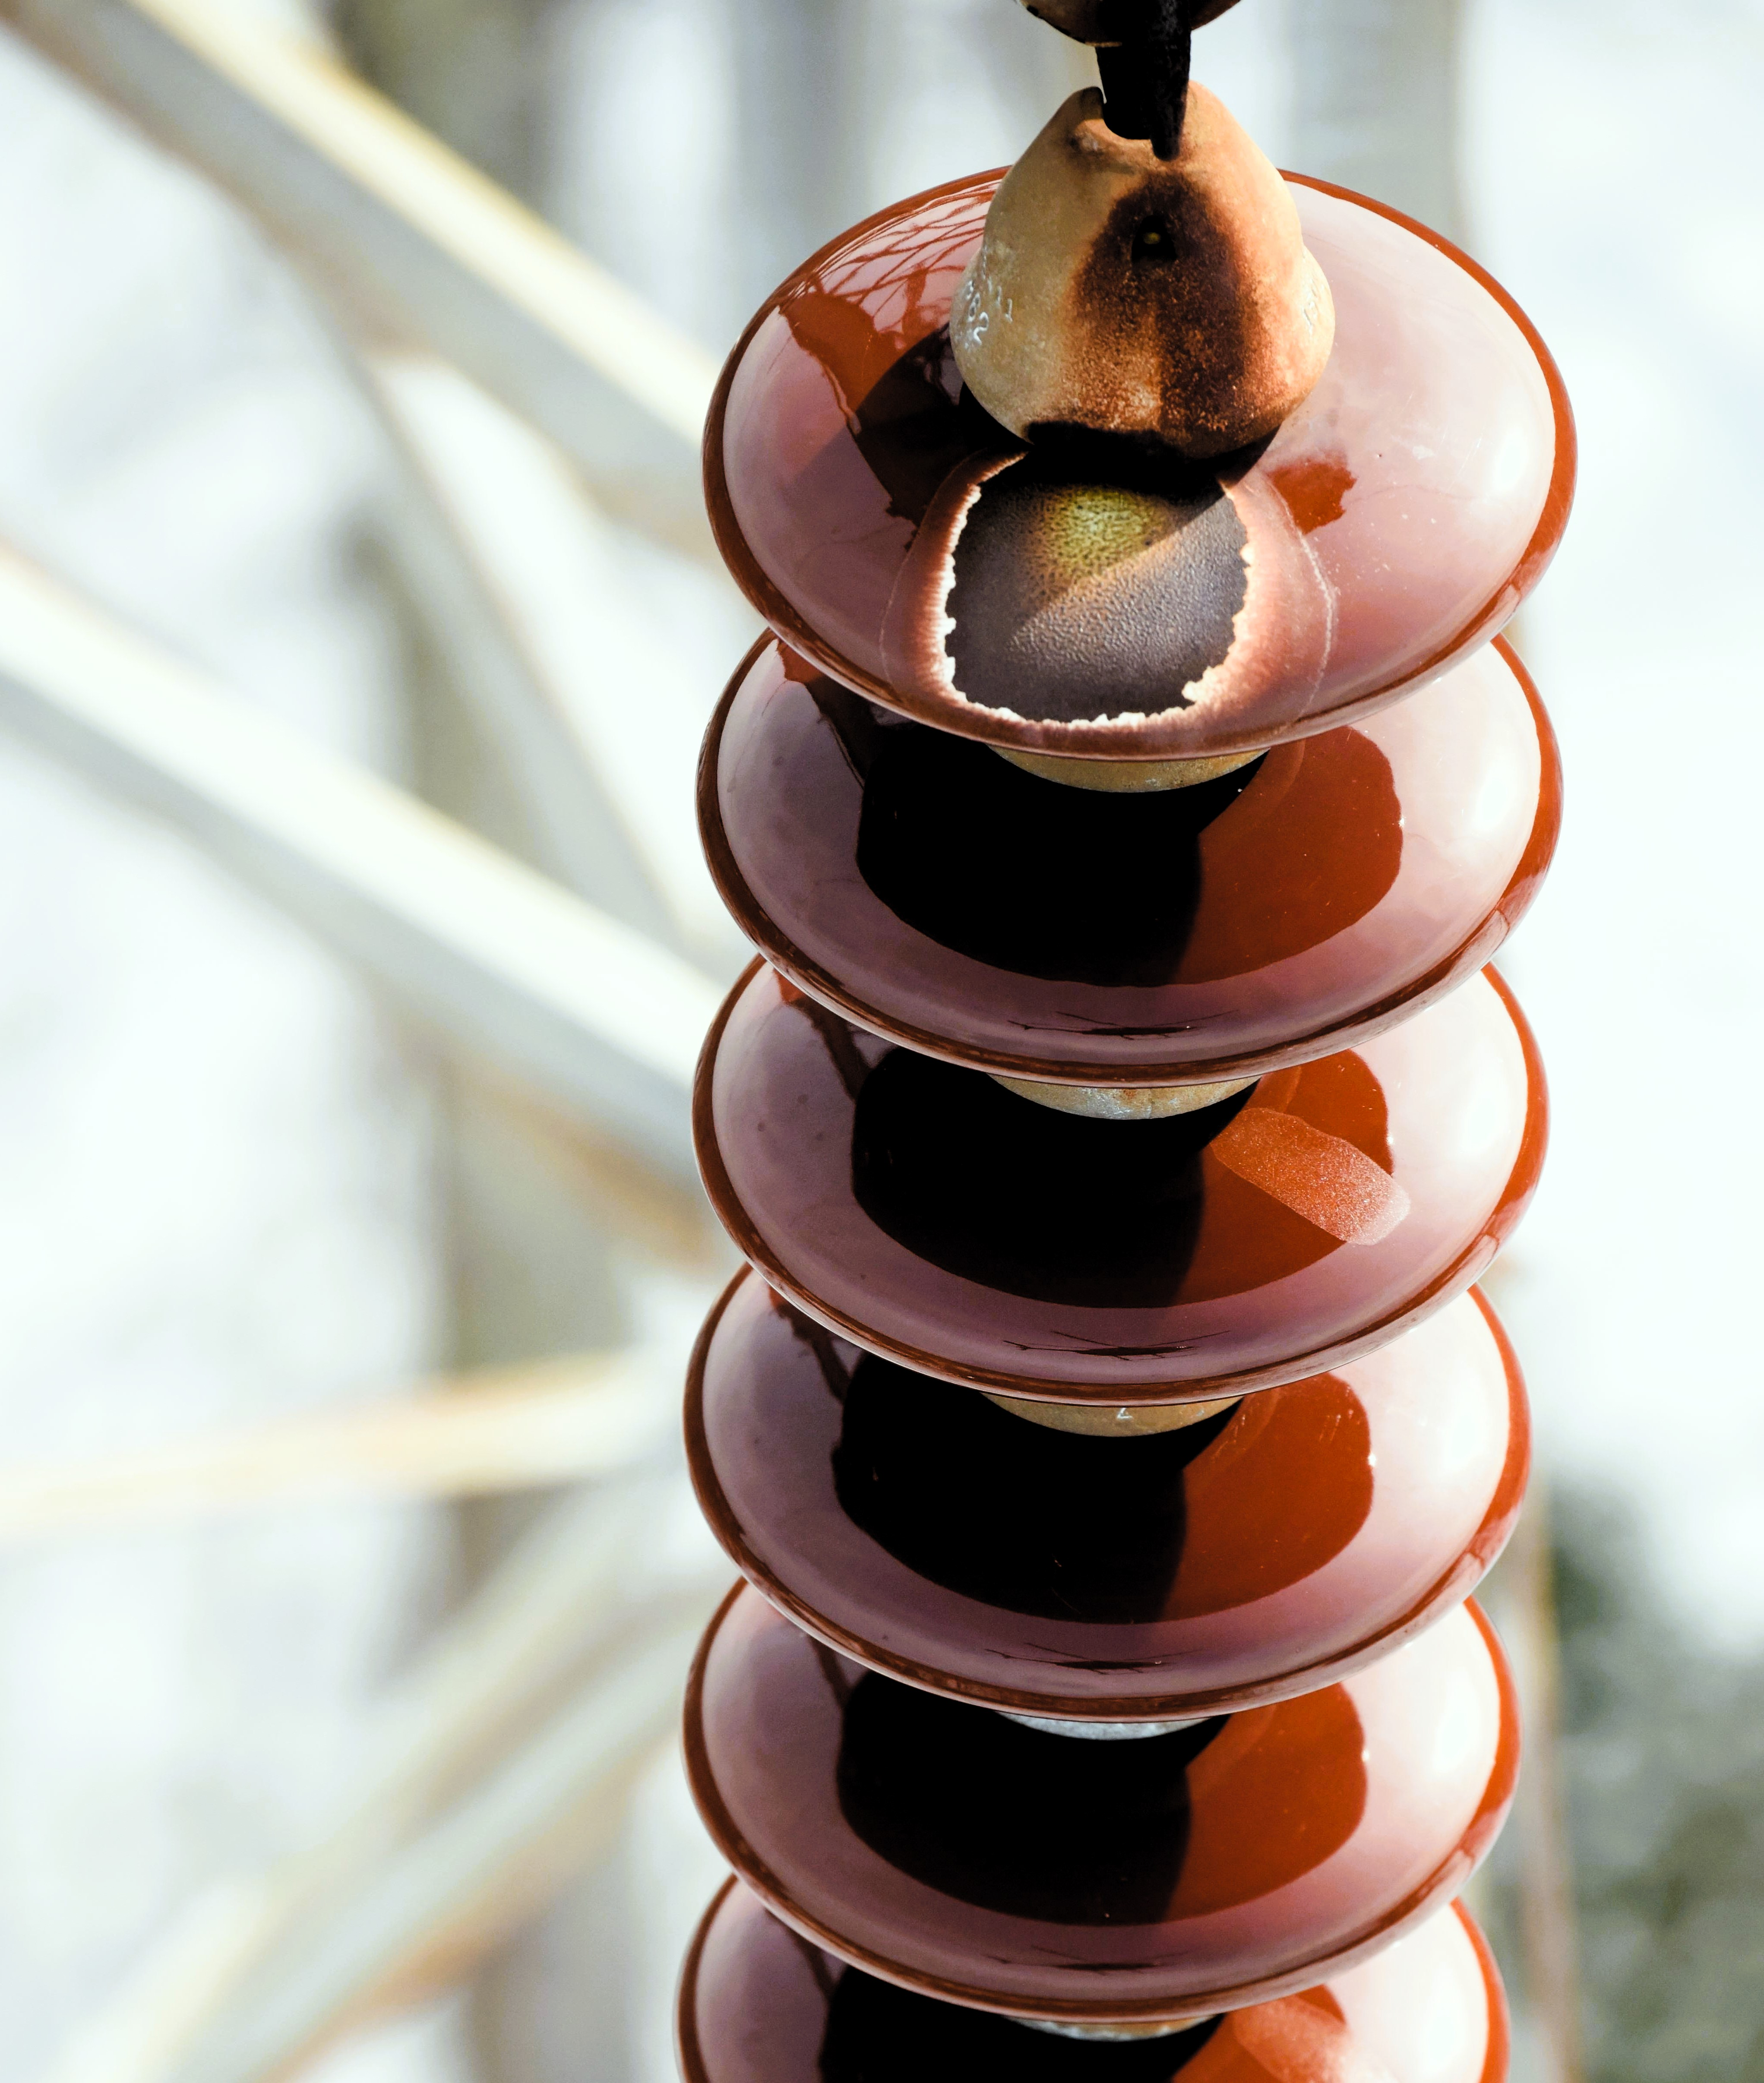Insulator flashover: (684, 137, 1608, 786)
